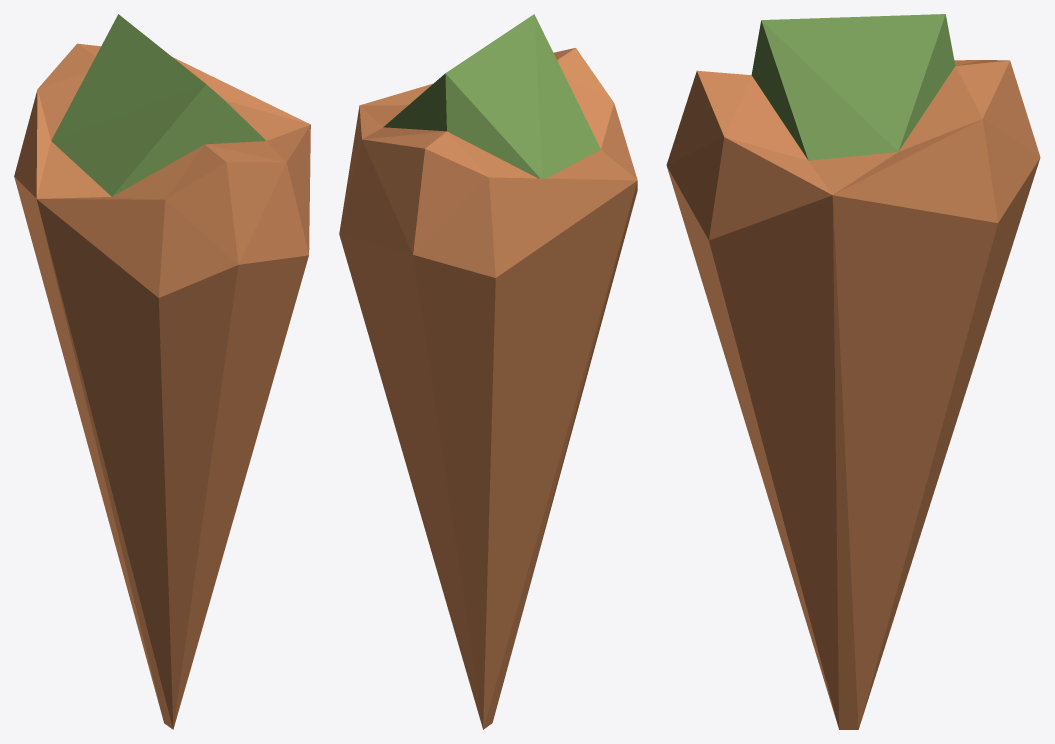
File: carrot.fbx
3 views of the same model, side by side, from view 1: azimuth 30°, elevation 25°; view 2: azimuth 150°, elevation 25°; view 3: azimuth 270°, elevation 25° (orthographic). The views are drawn at different scales.
Parts seen in each view (by area): view 1: Carrot_4; view 2: Carrot_4; view 3: Carrot_4.
Boxes of the visible parts, box(x1,y1,x2,y2) form: Carrot_4: box(14, 14, 310, 729); Carrot_4: box(339, 14, 637, 729); Carrot_4: box(666, 14, 1040, 729).
Size of the model in its own units: 11.69 by 27.65 by 13.13.
